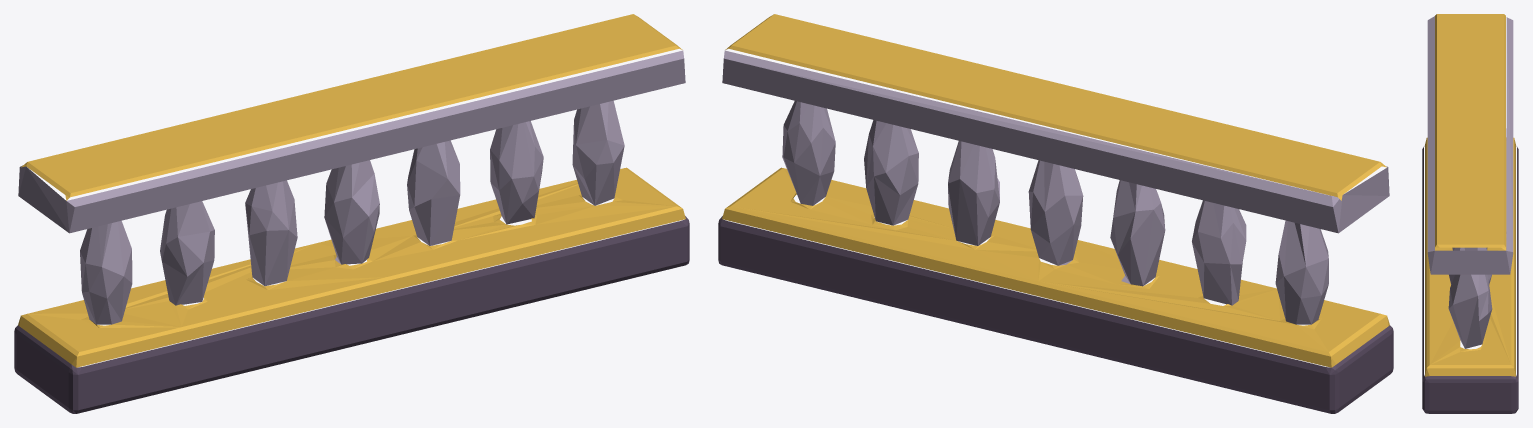
The model's file is marble_rail.glb.
The picture shows the model from 3 angles, left to right: view 1: azimuth 30°, elevation 25°; view 2: azimuth 150°, elevation 25°; view 3: azimuth 270°, elevation 25°; orthographic projection. The views are drawn at different scales.
Visible parts, largest first — view 1: marble_rail; view 2: marble_rail; view 3: marble_rail.
Part boxes in pixels (x1,y1,x2,y2): marble_rail: (14,14,689,413); marble_rail: (718,14,1393,413); marble_rail: (1422,14,1518,413).
Size of the model in its own units: 3.24 by 1.08 by 0.56.
